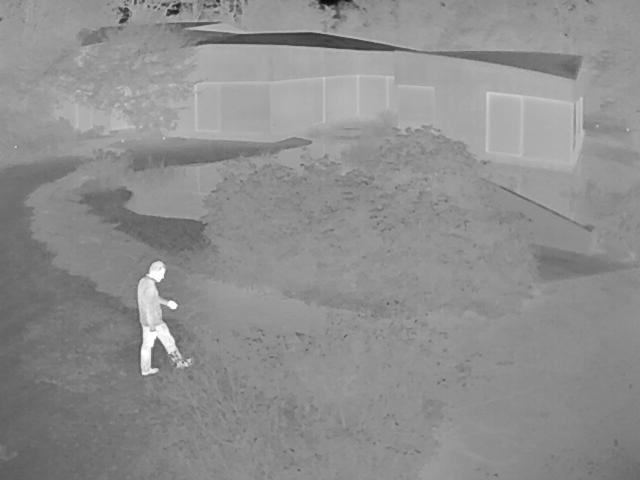person: (139, 261, 196, 375)
